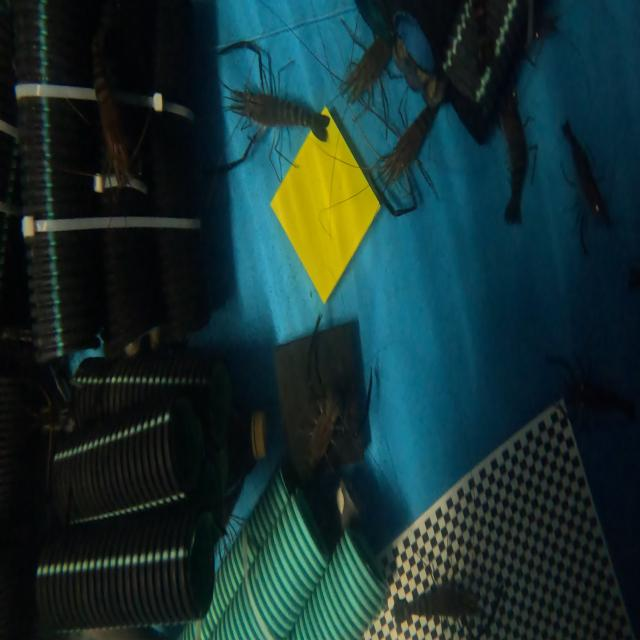prawn: (232, 91, 328, 139), (381, 102, 439, 179), (392, 582, 479, 626), (341, 50, 387, 102), (505, 141, 526, 223)
